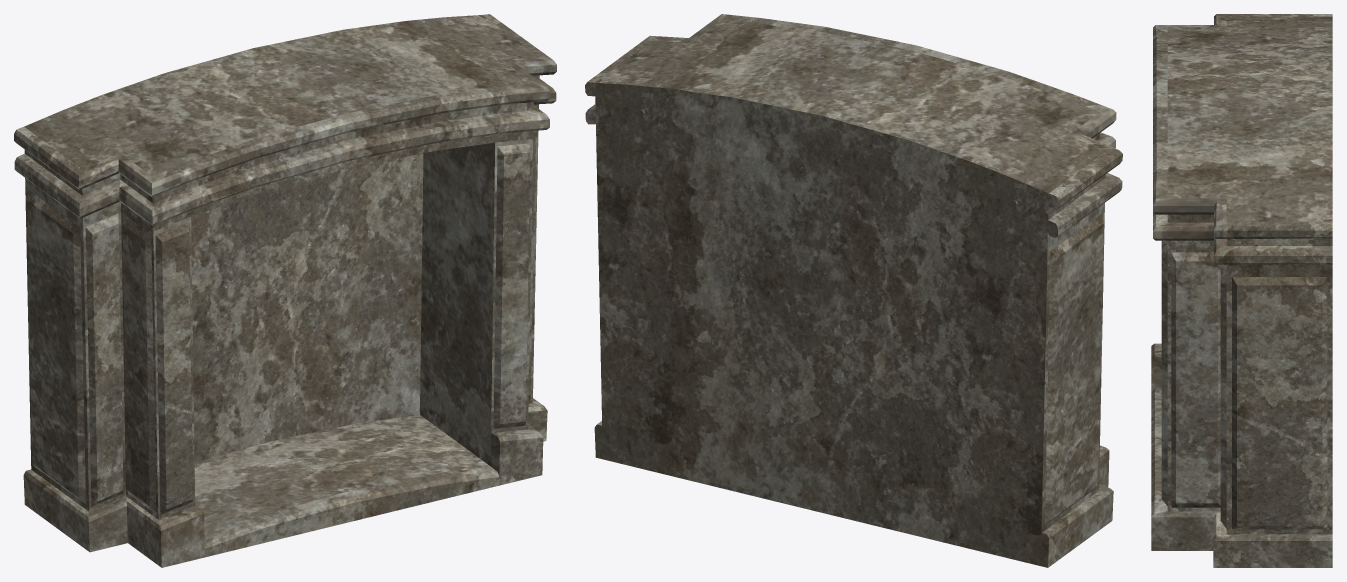
Rendered from Library_Fireplace.fbx.
3 renders of one model, left to right at view 1: azimuth 30°, elevation 25°; view 2: azimuth 150°, elevation 25°; view 3: azimuth 270°, elevation 25°, orthographic. The views are drawn at different scales.
Parts seen in each view (by area): view 1: FireplaceUVd:pCube20; view 2: FireplaceUVd:pCube20; view 3: FireplaceUVd:pCube20.
Part boxes in pixels (box(x1,y1,x2,y2)): FireplaceUVd:pCube20: box(14, 14, 556, 567); FireplaceUVd:pCube20: box(585, 14, 1122, 567); FireplaceUVd:pCube20: box(1151, 14, 1332, 567).
Bounding box in the file's own units: 225 × 181 × 80.73.
